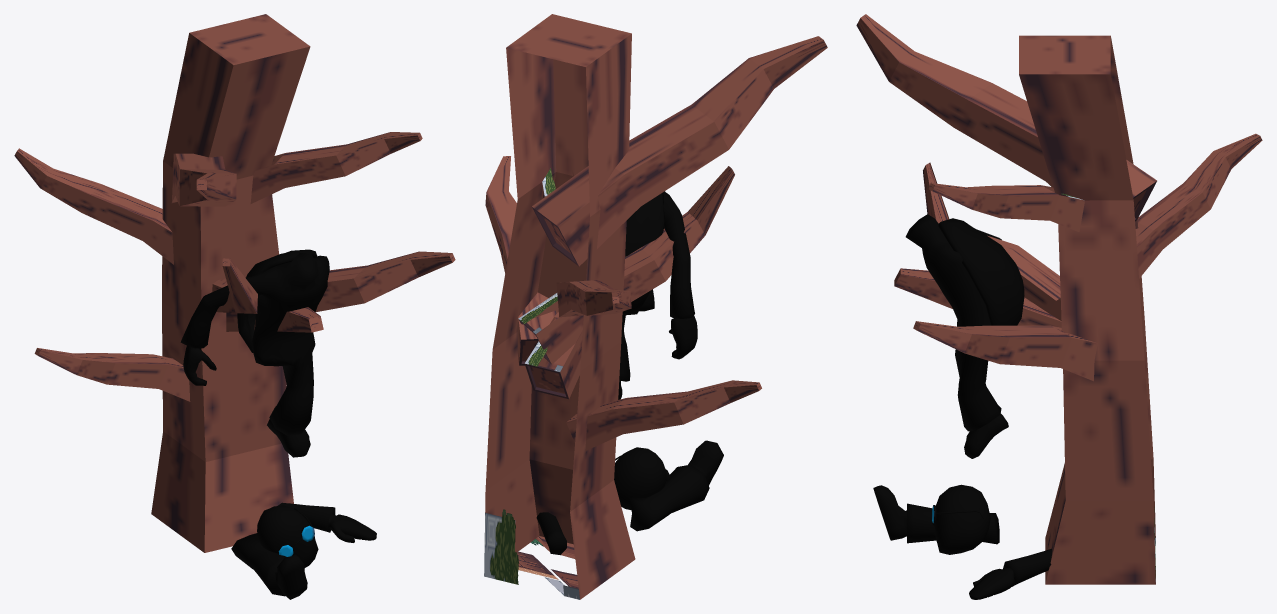
Rendered from Benjo.fbx.
The picture shows the model from 3 angles, left to right: view 1: azimuth 30°, elevation 25°; view 2: azimuth 150°, elevation 25°; view 3: azimuth 270°, elevation 25°; orthographic projection. The views are drawn at different scales.
Parts seen in each view (by area): view 1: Benjo.001, Benjo; view 2: Benjo.001, Benjo; view 3: Benjo.001, Benjo.
Part boxes in pixels (x1=…): Benjo.001: x1=14, y1=14, x2=455, y2=552; Benjo: x1=180, y1=249, x2=376, y2=599; Benjo.001: x1=484, y1=14, x2=827, y2=599; Benjo: x1=536, y1=191, x2=723, y2=555; Benjo.001: x1=856, y1=14, x2=1262, y2=584; Benjo: x1=873, y1=214, x2=1052, y2=599.
Bounding box in the file's own units: 233 × 237 × 328.
